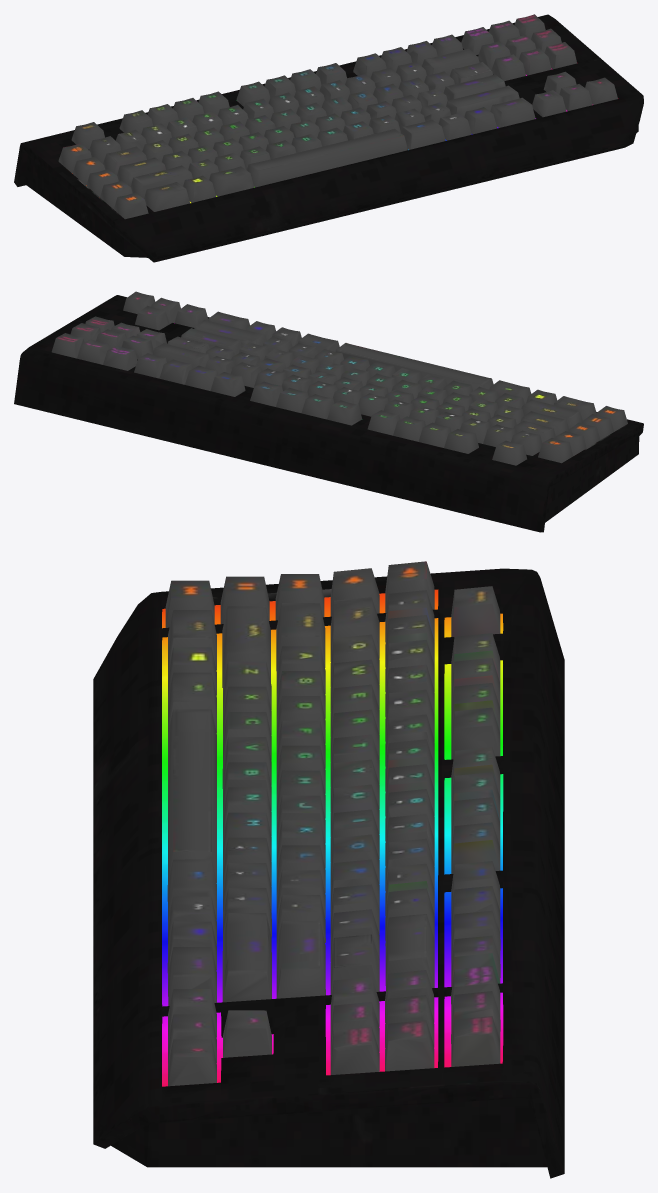
The model's file is kb-razer-huntsman-v3-pro-tkl_lod2.glb.
The picture shows the model from 3 angles, top to bottom: view 1: azimuth 30°, elevation 25°; view 2: azimuth 150°, elevation 25°; view 3: azimuth 270°, elevation 25°; orthographic projection. The views are drawn at different scales.
Parts seen in each view (by area): view 1: body; view 2: body; view 3: body.
Boxes of the visible parts, bbox=[...] form: body: bbox=[14, 14, 643, 262]; body: bbox=[14, 291, 643, 532]; body: bbox=[93, 561, 564, 1178].
Bounding box in the file's own units: 0.361 × 0.04 × 0.14.
Materials: 1 (1 with a texture image).
